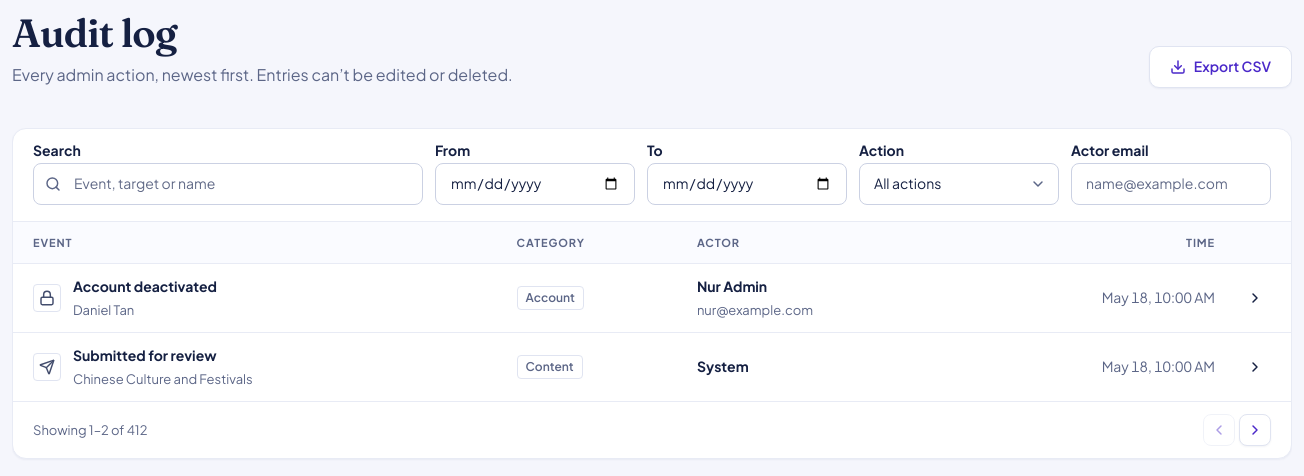
Scenario: AdminAuditLogPage › explains a From date after the To date instead of searching
Type "2026-05-01" into the date field with test id "admin-audit-to" at (747, 184), box x1=647 y1=163 x2=847 y2=205
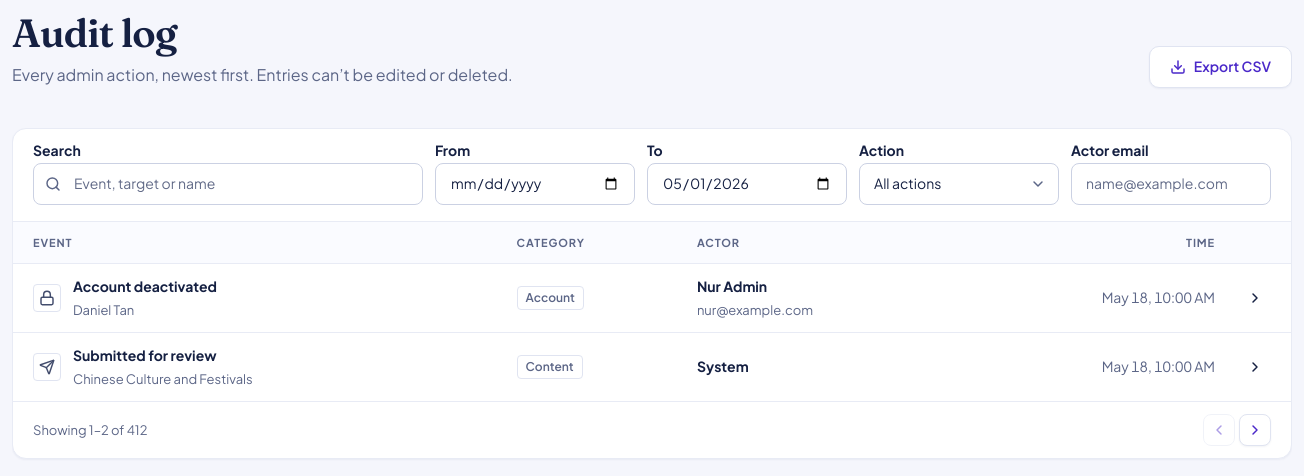
Type "2026-05-10" into the date field with test id "admin-audit-from" at (535, 184), box x1=435 y1=163 x2=635 y2=205
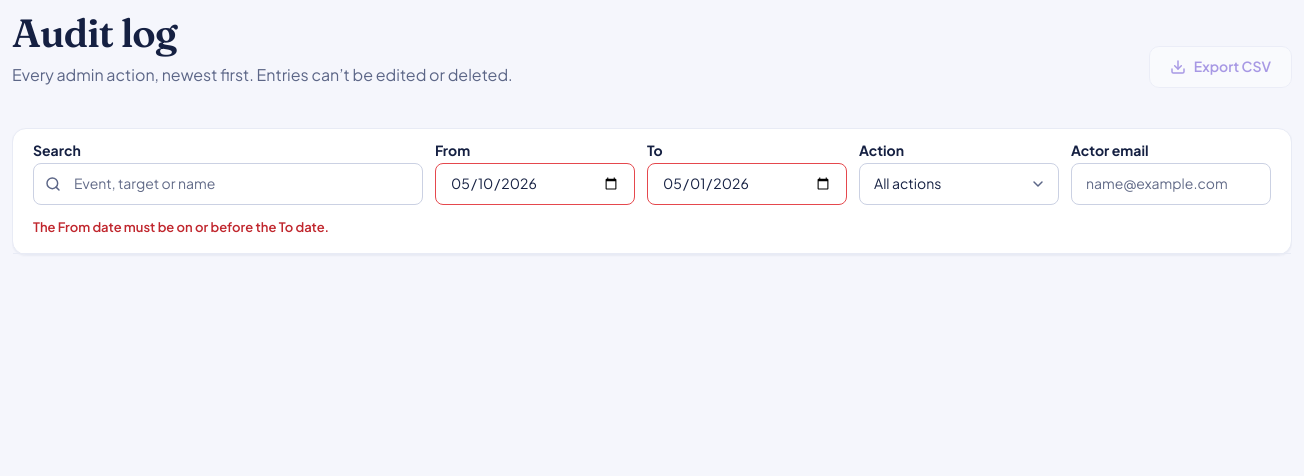
Expected: the message with class "admin-audit-range-error" reads "The From date must be on or before the To date.", x1=33 y1=219 x2=329 y2=235
Expected: no rows with test id "admin-audit-row" are shown
Expected: the button with test id "admin-audit-export" is disabled, x1=1149 y1=46 x2=1292 y2=88
